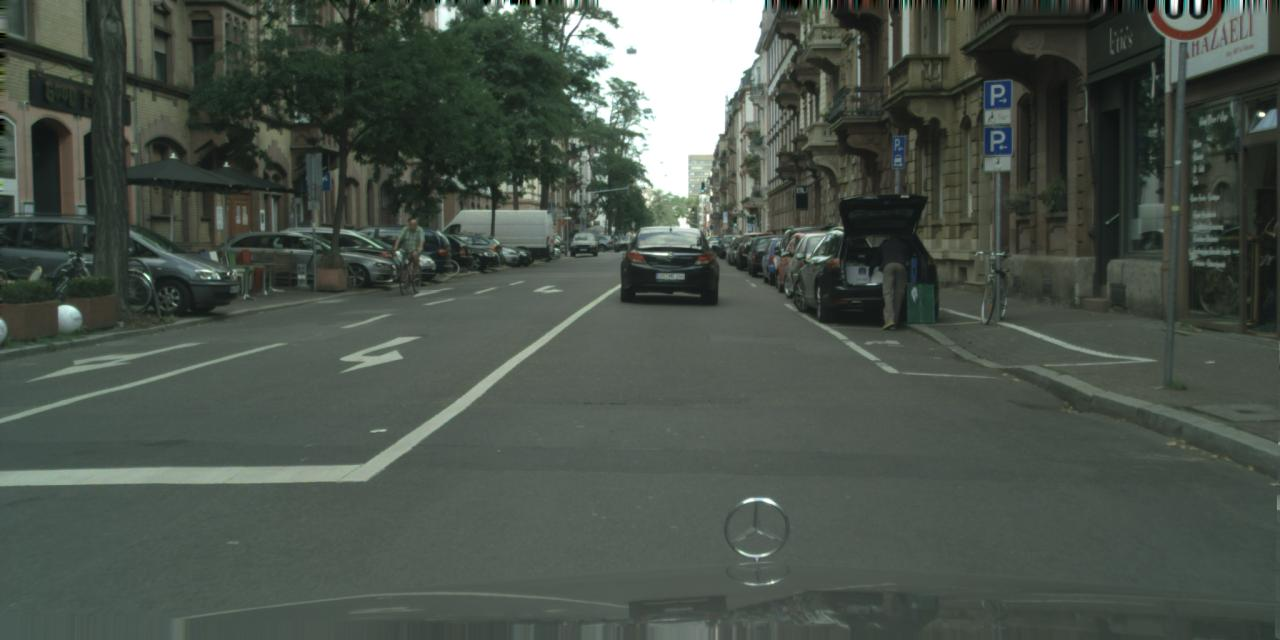ped: (874, 232, 914, 329), (400, 218, 424, 281), (627, 232, 634, 245)
